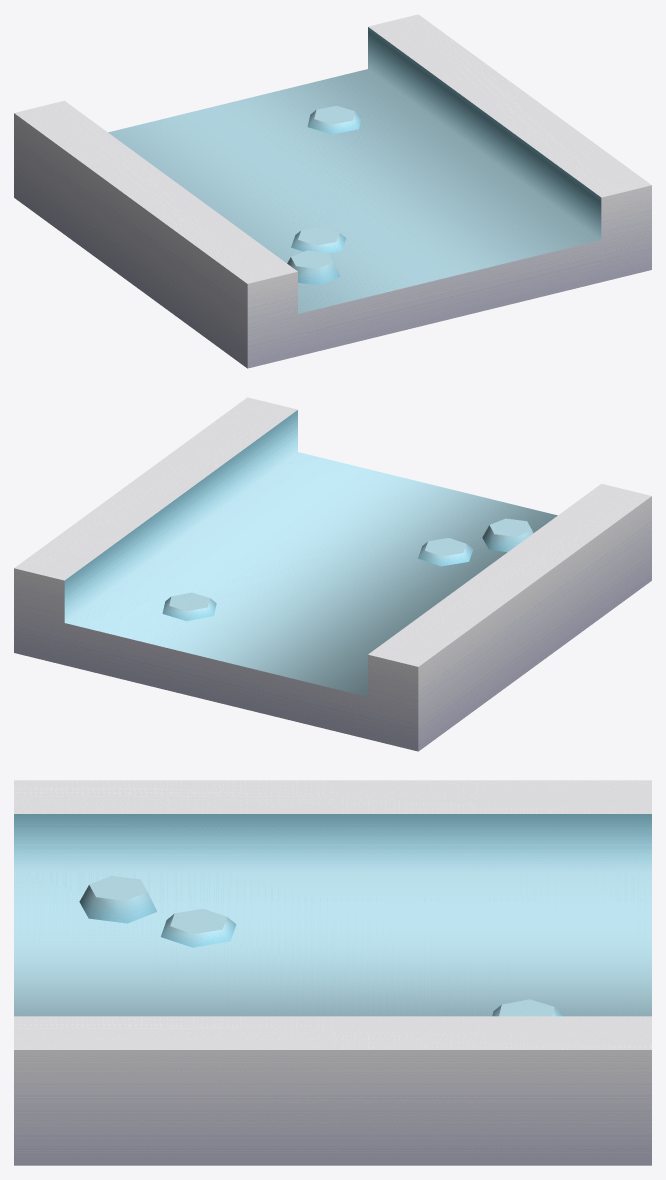
The model's file is snow-tile-straight.glb.
The picture shows the model from 3 angles, top to bottom: view 1: azimuth 30°, elevation 25°; view 2: azimuth 150°, elevation 25°; view 3: azimuth 270°, elevation 25°; orthographic projection. The views are drawn at different scales.
Visible parts, largest first — view 1: snow-tile-straight; view 2: snow-tile-straight; view 3: snow-tile-straight.
Boxes of the visible parts, box(x1,y1,x2,y2) form: snow-tile-straight: box(14, 14, 651, 368); snow-tile-straight: box(14, 397, 651, 751); snow-tile-straight: box(14, 780, 651, 1165).
Bounding box in the file's own units: 1 × 0.2 × 1.
Materials: 1 (1 with a texture image).
